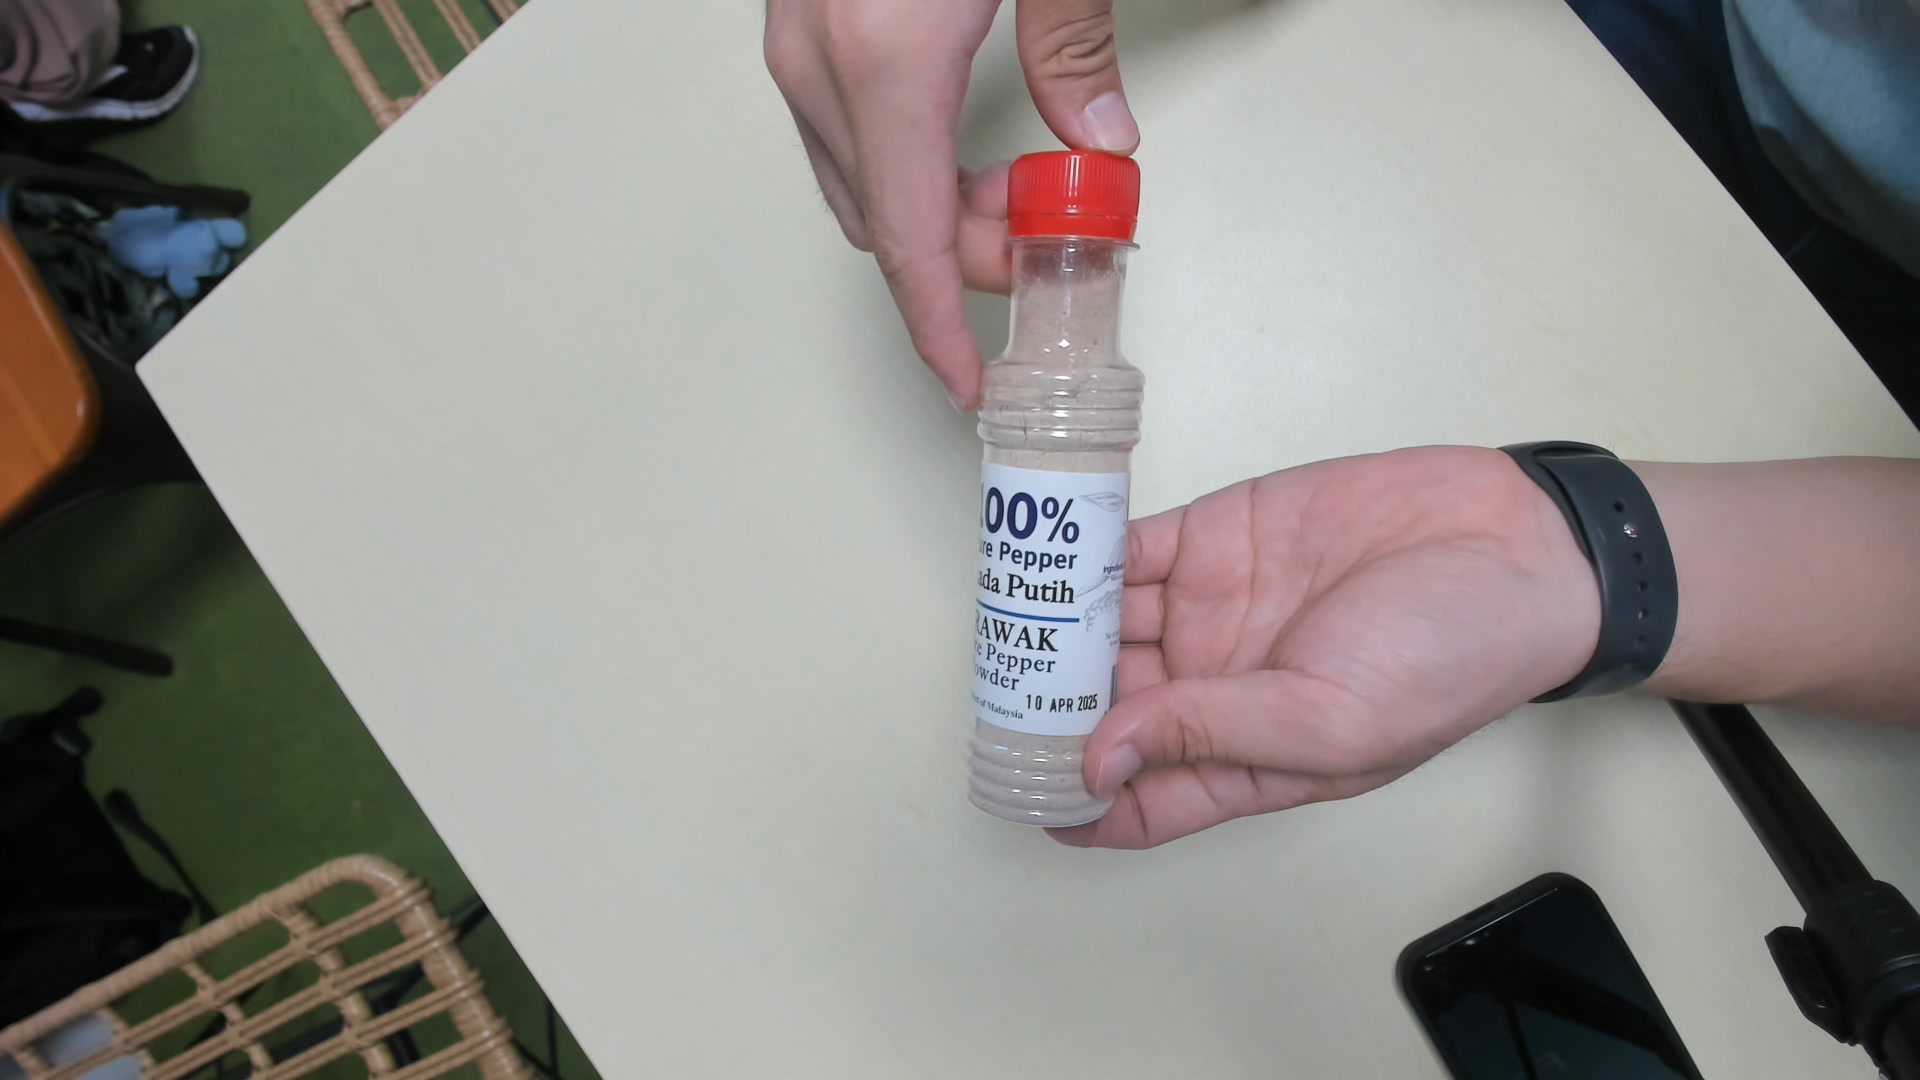HerbsSpicesPepper_0-99g_NonHalal_NonHealthy: (953, 153, 1138, 824)
